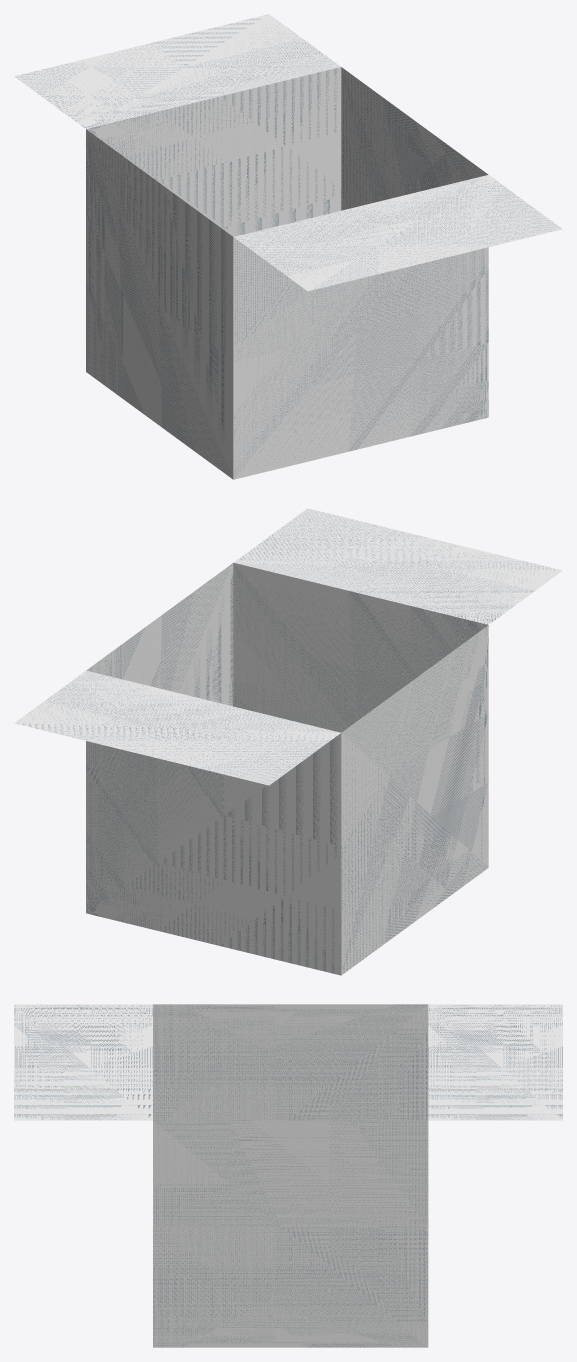
The model's file is cardboardBox.fbx.
3 views of the same model, one above another, from view 1: azimuth 30°, elevation 25°; view 2: azimuth 150°, elevation 25°; view 3: azimuth 270°, elevation 25° (orthographic). The views are drawn at different scales.
Visible parts, largest first — view 1: Model; view 2: Model; view 3: Model.
Part boxes in pixels (x1,y1,x2,y2): Model: [14, 14, 562, 479]; Model: [14, 508, 562, 975]; Model: [14, 1004, 562, 1347].
Bounding box in the file's own units: 0.44 × 0.4 × 0.8771.
